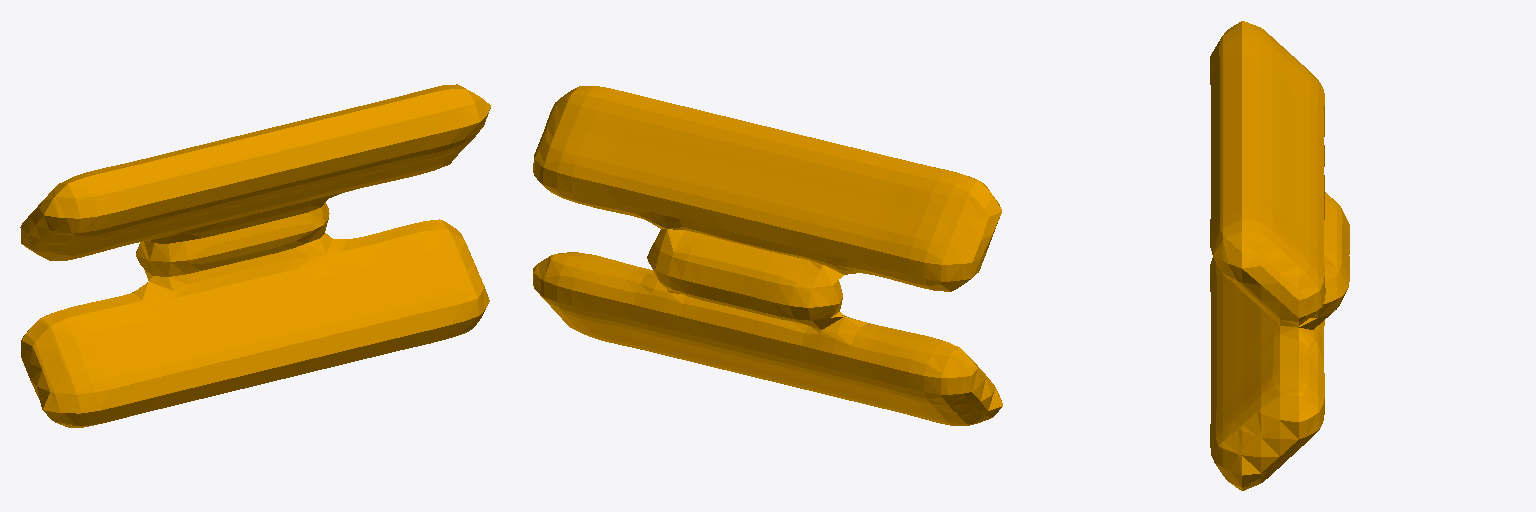
URDF robot description (V12_1):
<?xml version="1.0"?>
<robot name="V12_1">
  <link name="base_link">
    <visual>
      <geometry>
        <mesh filename="../../../../meshes/egad/train/V12_1.obj" />
      </geometry>
    </visual>
  </link>
</robot>

--- Render facts (derived) ---
The picture shows the robot from 3 angles, left to right: view 1: azimuth 30°, elevation 25°; view 2: azimuth 150°, elevation 25°; view 3: azimuth 270°, elevation 25°; orthographic projection.
Robot: V12_1 — 1 links, 0 joints (none); root link base_link; default pose: all joints at 0.
Links seen in each view (by area): view 1: base_link; view 2: base_link; view 3: base_link.
Boxes of the visible links, x1,y1,x2,y2 form: base_link: (20,84,490,427); base_link: (533,86,1002,425); base_link: (1210,21,1349,490).
Bounding box of the posed robot: 0.075 × 0.019 × 0.04 m (x, y, z).
Meshes: 1 distinct files referenced, 1 mesh visuals loaded (1 OBJ).